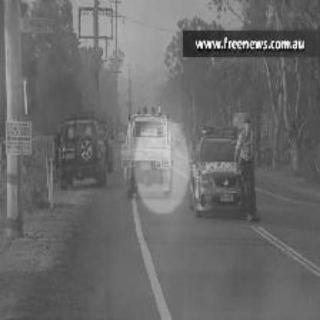other: (128, 110, 192, 208)
